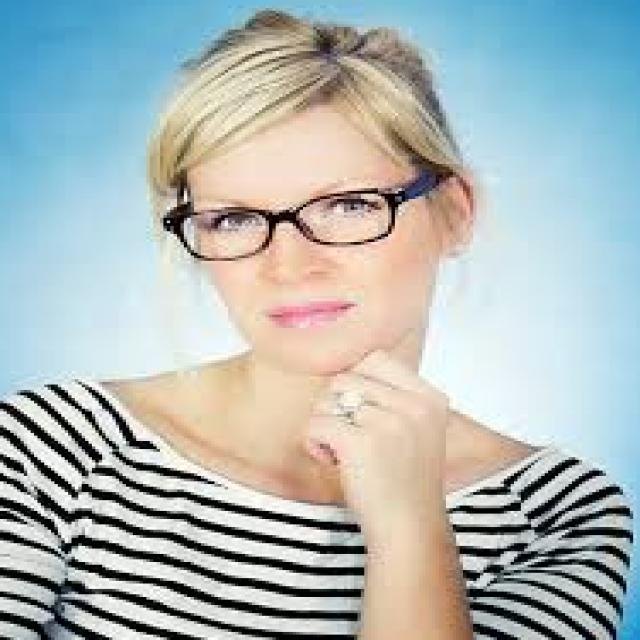Glasses: (152, 188, 420, 258)
